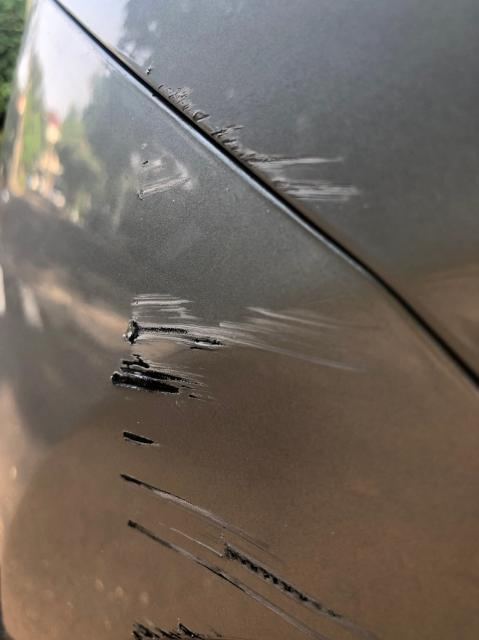Bumper: (0, 6, 389, 640)
